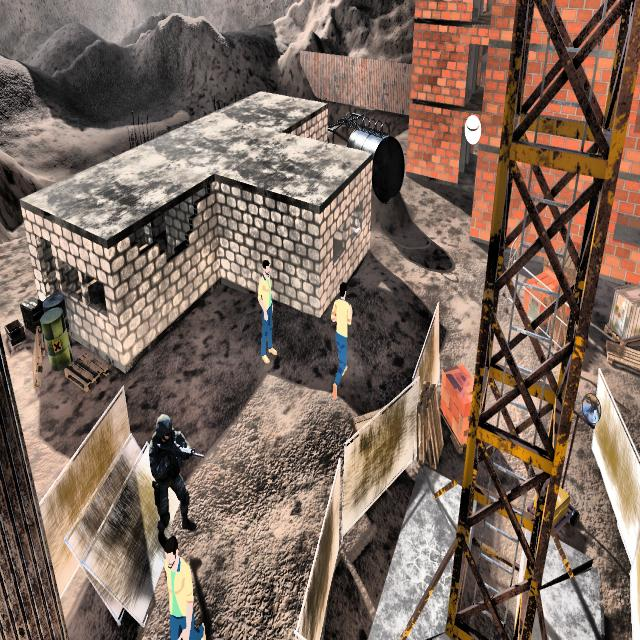bad: (139, 406, 200, 545)
good: (155, 530, 209, 640), (317, 268, 358, 408), (249, 242, 283, 373)
